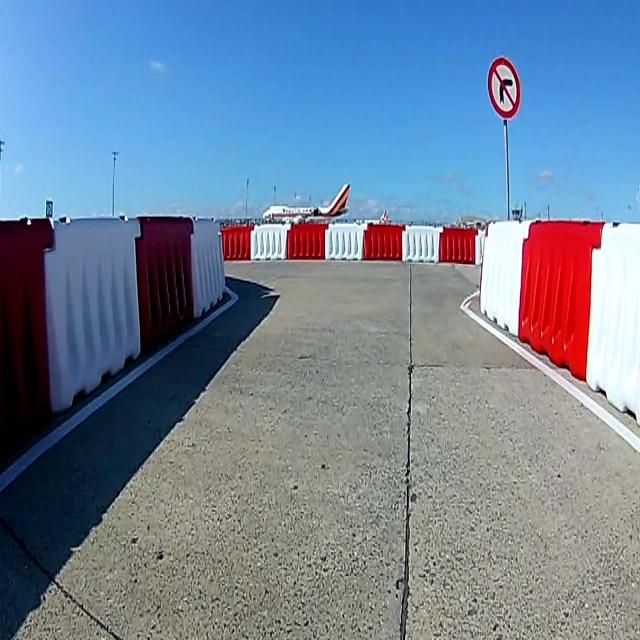sagadonulmez: (487, 57, 521, 118)
